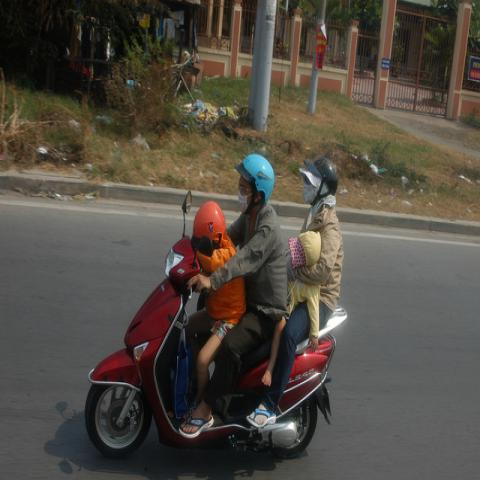motorcycle: (84, 190, 348, 462)
